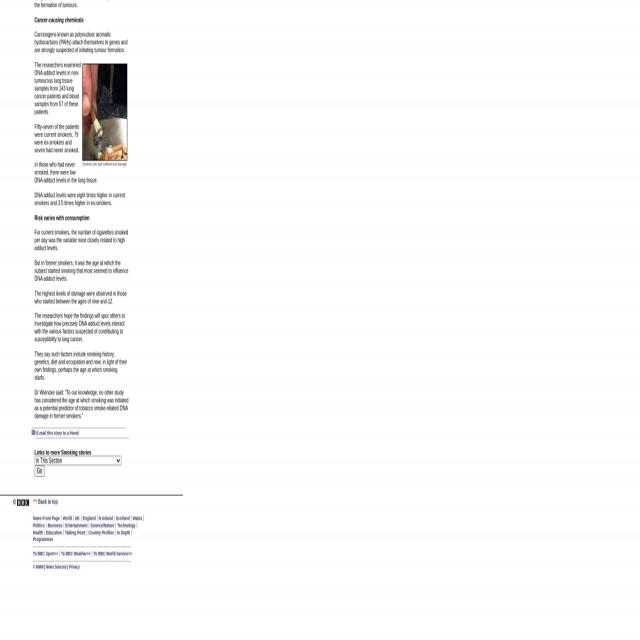button: (82, 64, 128, 160), (8, 498, 30, 507), (34, 465, 44, 477)
field: (35, 456, 121, 466)
